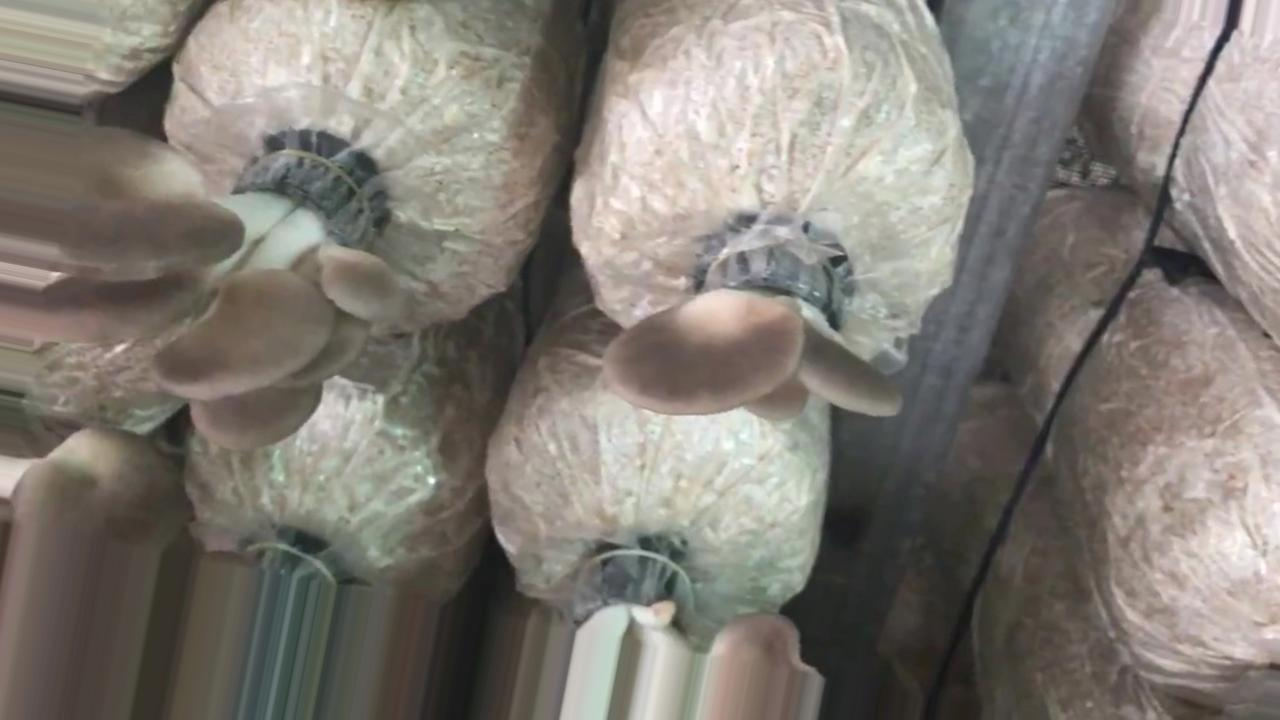nam: (1, 100, 406, 451), (610, 246, 906, 432)
